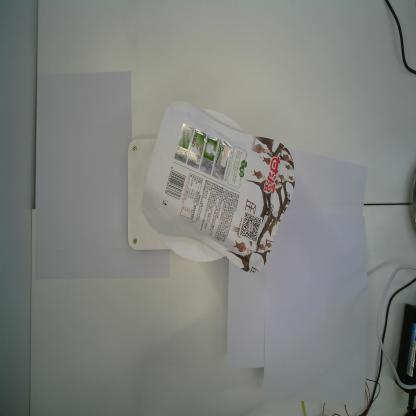Dried Fruit: (140, 99, 295, 273)
